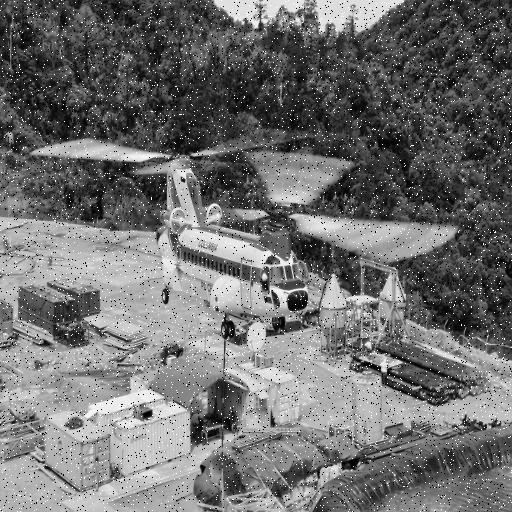helicopter: (32, 108, 465, 348)
